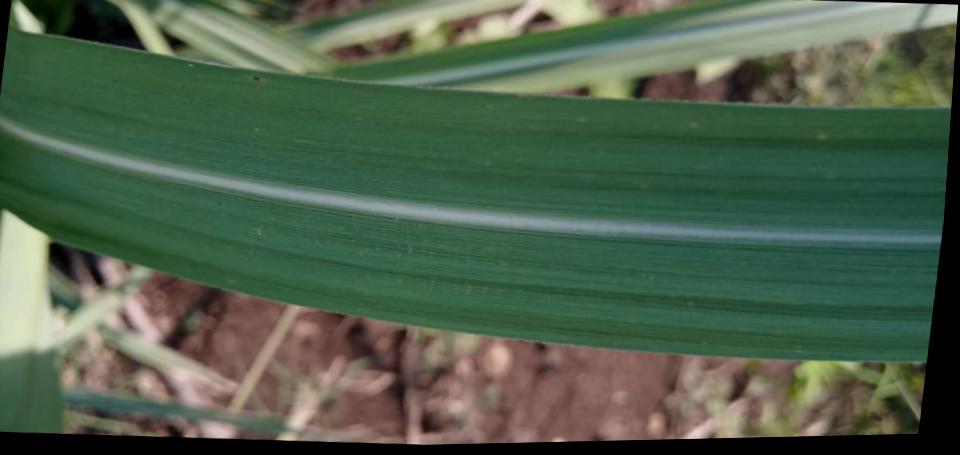Healthy: (0, 30, 951, 359)
